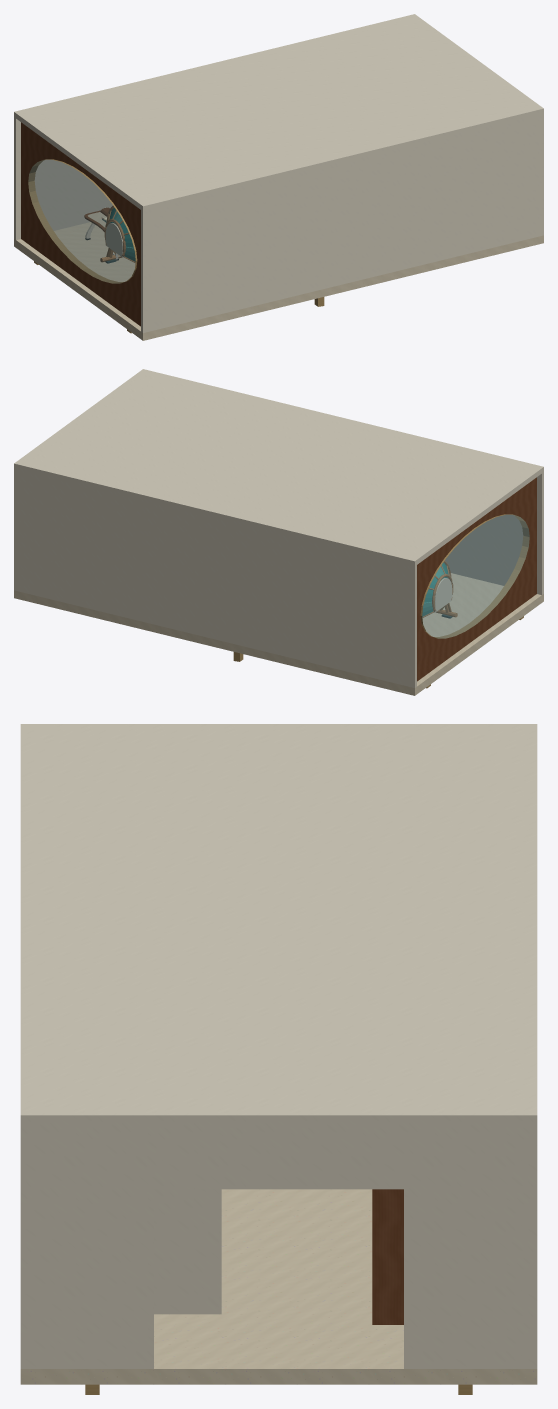
Rendered from NightGardenD15Specialty_518_r001.glb.
The picture shows the model from 3 angles, top to bottom: view 1: azimuth 30°, elevation 25°; view 2: azimuth 150°, elevation 25°; view 3: azimuth 270°, elevation 25°; orthographic projection. The views are drawn at different scales.
Parts seen in each view (by area): view 1: NG518_Ceiling, NG518_SouthSide, NG518_OvalAtriumGlass, NG518_RoomFloor, NG518_OvalWindowReveal, NG518_NorthSide, NG518_OvalDepthReturn, NG518_ReservedRestSupport_01__Rear ivory acoustic diffuser; view 2: NG518_Ceiling, NG518_NorthSide, NG518_OvalAtriumGlass, NG518_RoomFloor, NG518_OvalWindowReveal, NG518_SouthSide, NG518_OvalDepthReturn, NG518_ReservedRestSupport_01__Rear ivory acoustic diffuser; view 3: NG518_Ceiling, NG518_RoomFloor, NG518_EntryShoulderNorth, NG518_EntryShoulderSouth, NG518_EntryHeader, NG518_WashEntrySide, NG518_EntryPrivacyDogleg, NG518_NorthSide, NG518_SouthSide.
Part boxes in pixels (x1=…): NG518_Ceiling: x1=14, y1=14, x2=543, y2=211; NG518_SouthSide: x1=141, y1=114, x2=543, y2=332; NG518_OvalAtriumGlass: x1=28, y1=160, x2=135, y2=283; NG518_RoomFloor: x1=14, y1=222, x2=543, y2=340; NG518_OvalWindowReveal: x1=21, y1=122, x2=140, y2=326; NG518_NorthSide: x1=14, y1=117, x2=112, y2=239; NG518_OvalDepthReturn: x1=28, y1=159, x2=137, y2=283; NG518_ReservedRestSupport_01__Rear ivory acoustic diffuser: x1=105, y1=223, x2=123, y2=257; NG518_Ceiling: x1=14, y1=369, x2=543, y2=566; NG518_NorthSide: x1=14, y1=469, x2=416, y2=687; NG518_OvalAtriumGlass: x1=422, y1=515, x2=529, y2=638; NG518_RoomFloor: x1=14, y1=573, x2=543, y2=695; NG518_OvalWindowReveal: x1=417, y1=477, x2=536, y2=681; NG518_SouthSide: x1=445, y1=472, x2=543, y2=594; NG518_OvalDepthReturn: x1=420, y1=514, x2=529, y2=638; NG518_ReservedRestSupport_01__Rear ivory acoustic diffuser: x1=434, y1=578, x2=452, y2=612; NG518_Ceiling: x1=20, y1=724, x2=537, y2=1125; NG518_RoomFloor: x1=20, y1=1189, x2=537, y2=1384; NG518_EntryShoulderNorth: x1=404, y1=1125, x2=528, y2=1368; NG518_EntryShoulderSouth: x1=29, y1=1125, x2=153, y2=1368; NG518_EntryHeader: x1=150, y1=1125, x2=407, y2=1189; NG518_WashEntrySide: x1=154, y1=1189, x2=221, y2=1314; NG518_EntryPrivacyDogleg: x1=372, y1=1189, x2=403, y2=1324; NG518_NorthSide: x1=528, y1=1125, x2=537, y2=1368; NG518_SouthSide: x1=20, y1=1125, x2=29, y2=1368.
Size of the model in its own units: 12.9 by 4.91 by 7.2.
Materials: 58 (43 with a texture image).
